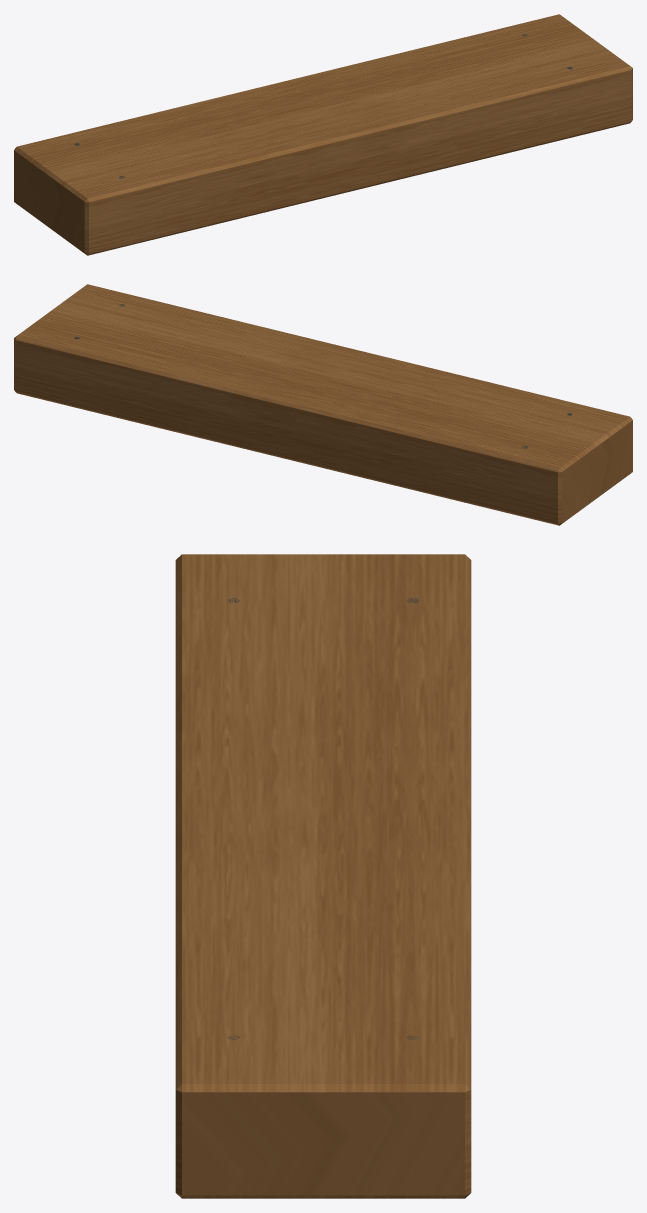
The picture shows the model from 3 angles, top to bottom: view 1: azimuth 30°, elevation 25°; view 2: azimuth 150°, elevation 25°; view 3: azimuth 270°, elevation 25°; orthographic projection. The views are drawn at different scales.
Parts seen in each view (by area): view 1: Mesh_warm; view 2: Mesh_warm; view 3: Mesh_warm.
Boxes of the visible parts, x1,y1,x2,y2 form: Mesh_warm: (14,14,632,255); Mesh_warm: (14,284,632,525); Mesh_warm: (175,554,471,1198).
Size of the model in its own units: 1.2 by 0.12 by 0.28.
Materials: 3 (2 with a texture image).
